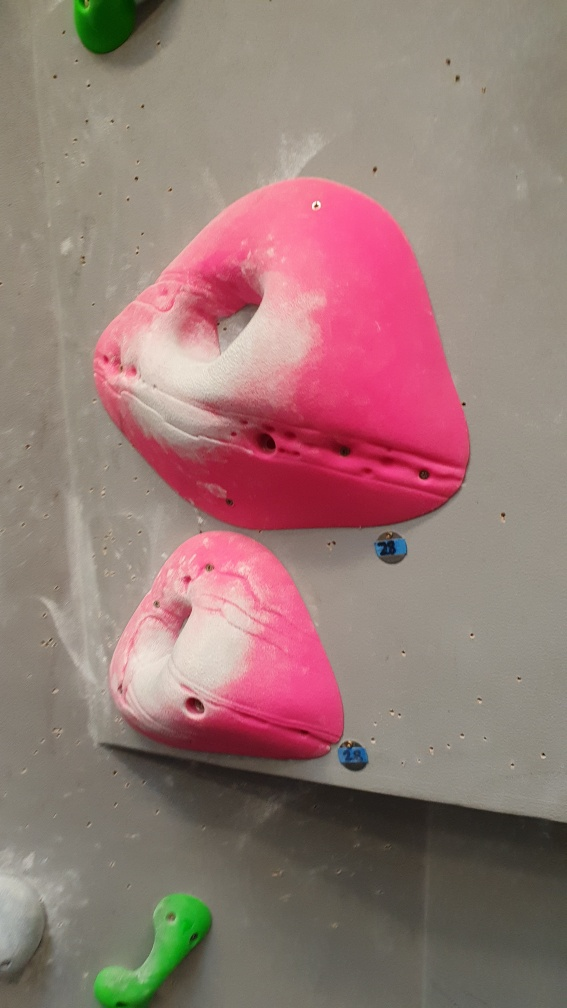Hand Start: (370, 526, 410, 569), (335, 737, 372, 778)
Pocket: (87, 176, 472, 536), (104, 529, 349, 773)
